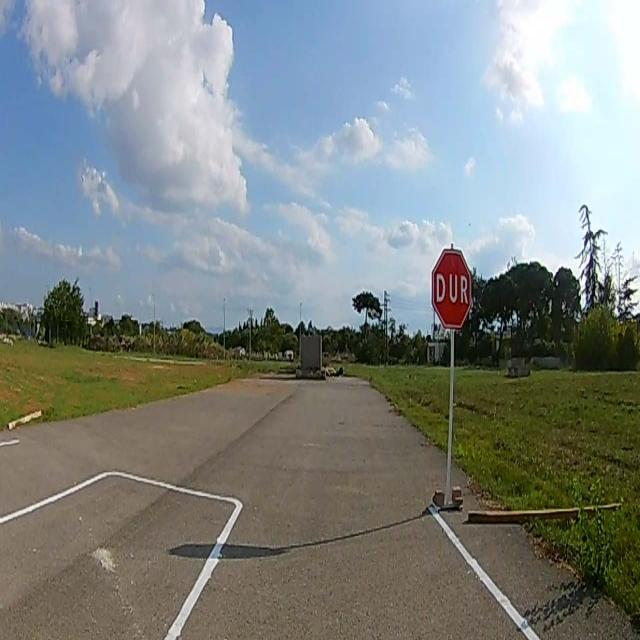dur: (433, 248, 471, 327)
